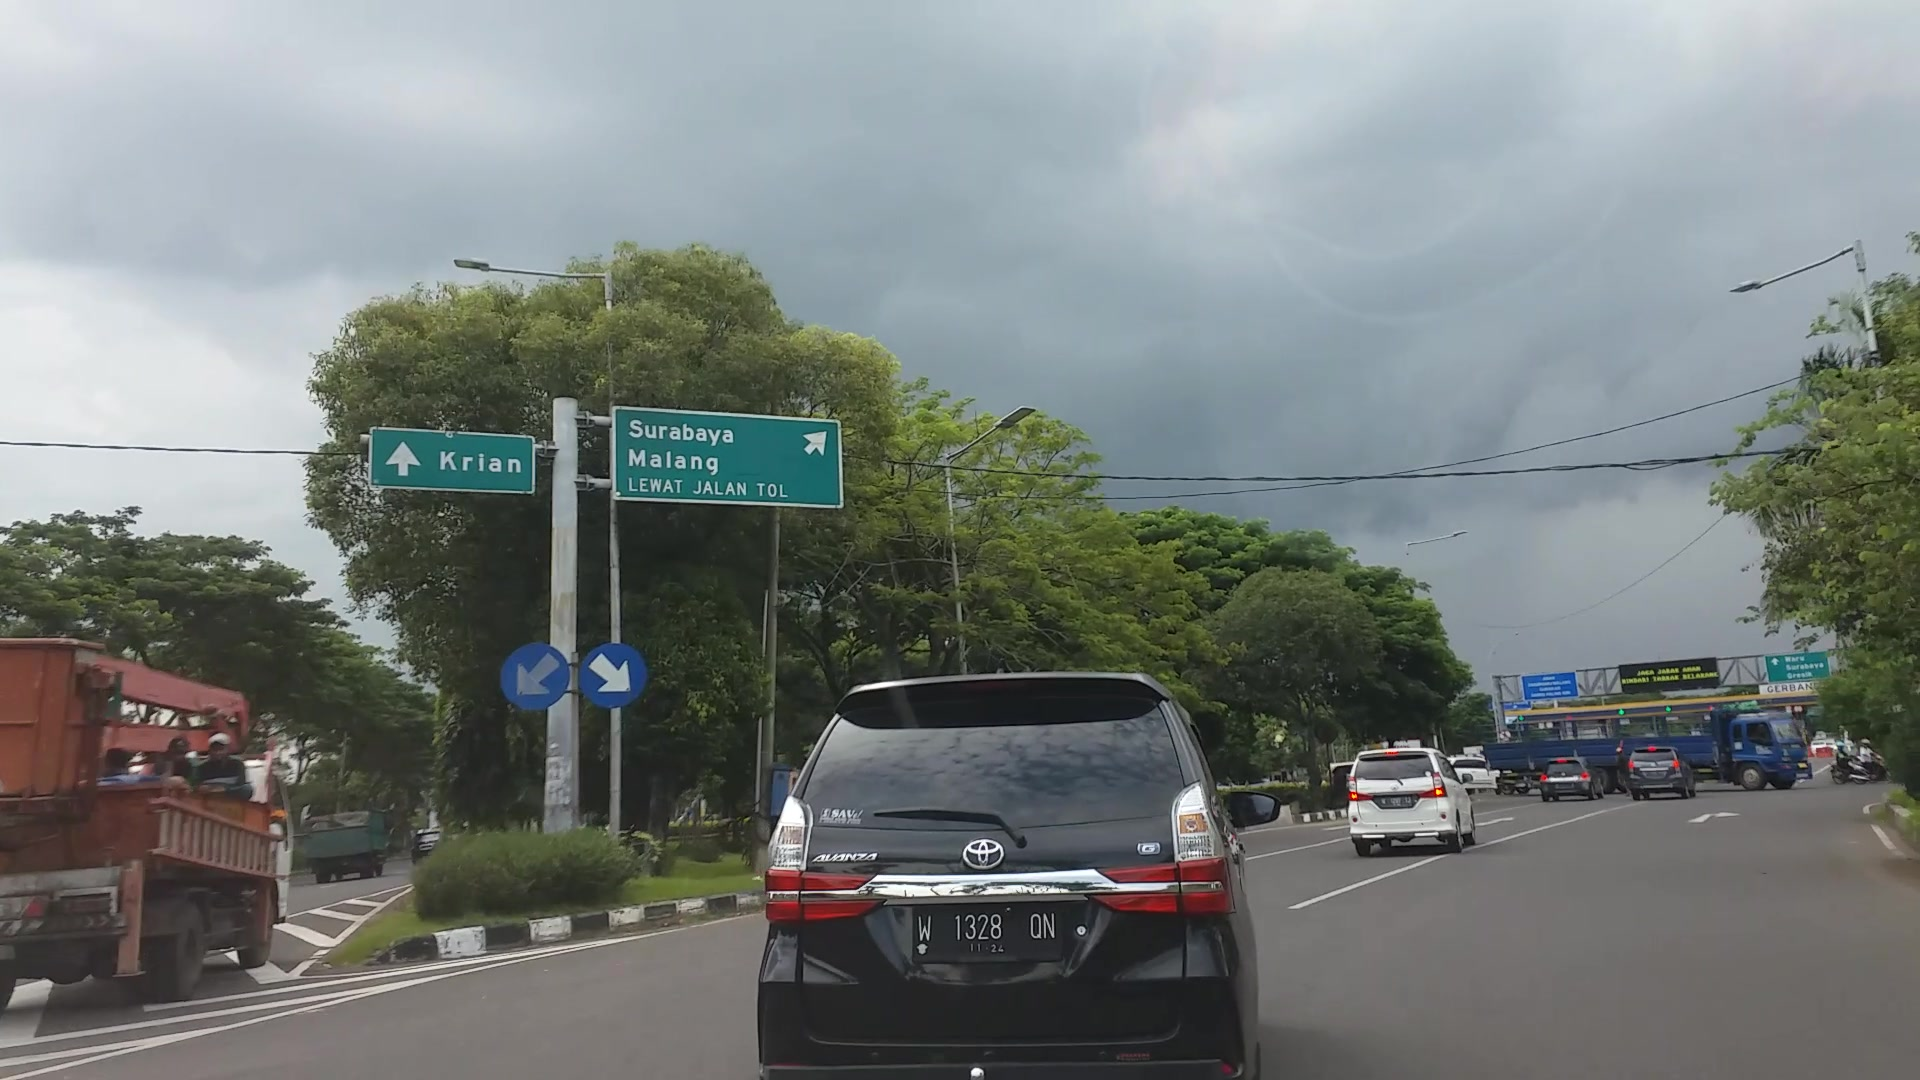plate_positive: (913, 905, 1062, 961)
